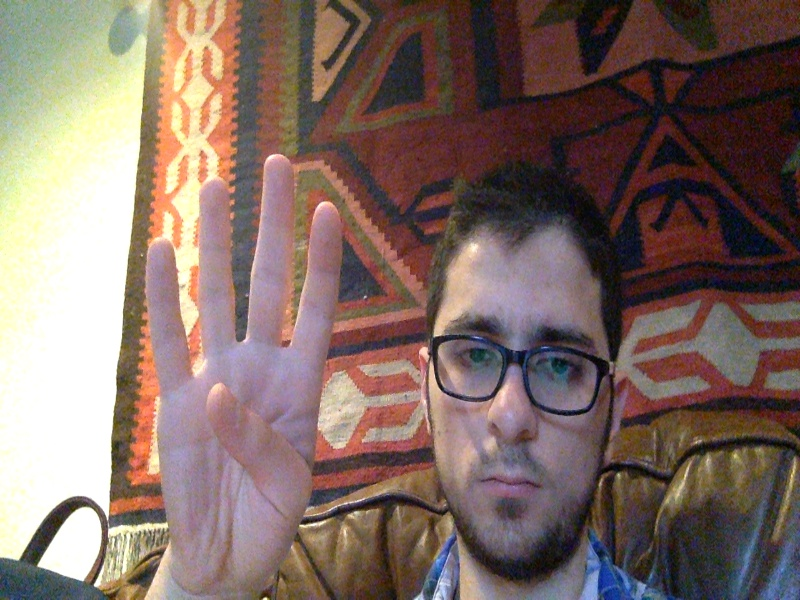4-hand: (148, 152, 339, 590)
